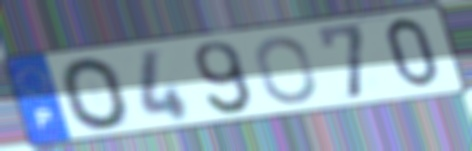0: (382, 14, 445, 94)
4: (137, 47, 193, 124)
7: (313, 21, 370, 102)
9: (190, 38, 254, 116)
O: (57, 55, 134, 133), (252, 34, 320, 106)
